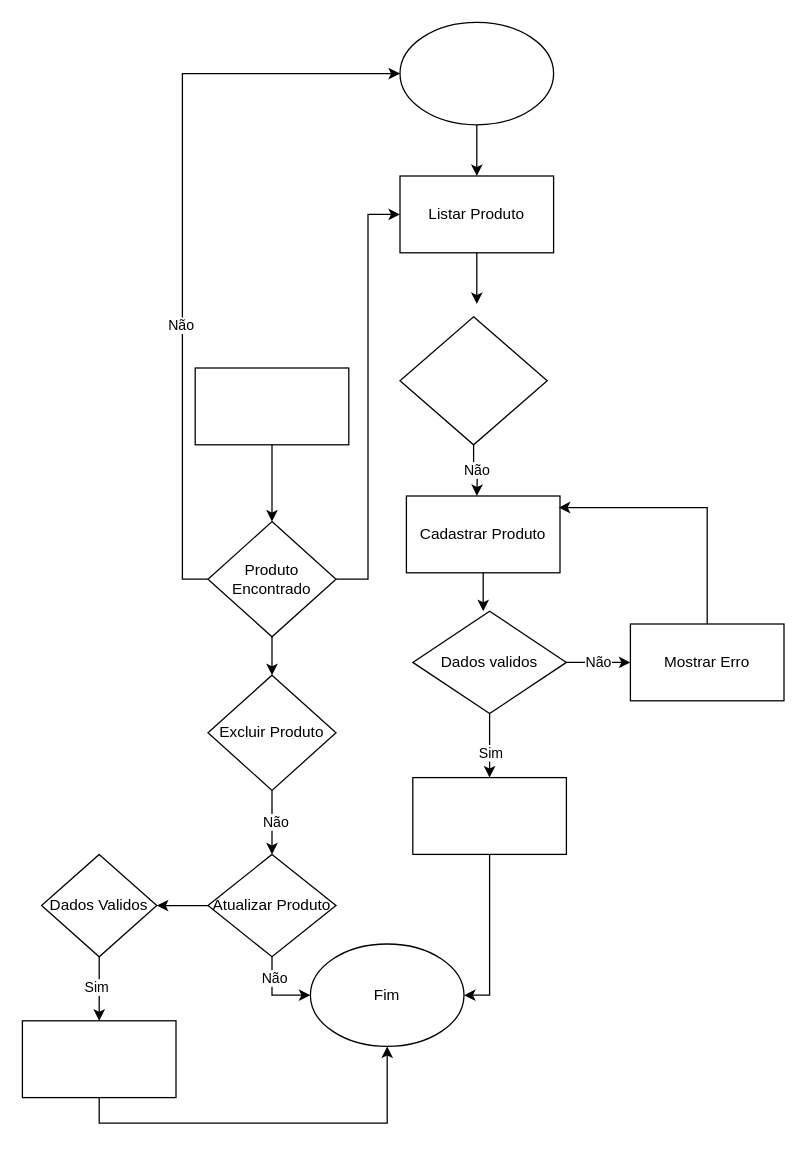
Some shapes in this 806 by 1156 pixel diagram are drawn without their labels. Each missing label, with the centre of its shape:
Atualização Concluida: the point at 98,1059
Buscar Produto: the point at 271,406
Cadastro Concluido: the point at 489,815
Inicio: the point at 476,73
Produto Cadastrado: the point at 473,380
